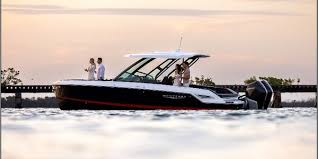boat: (51, 50, 258, 111), (220, 80, 318, 107)
